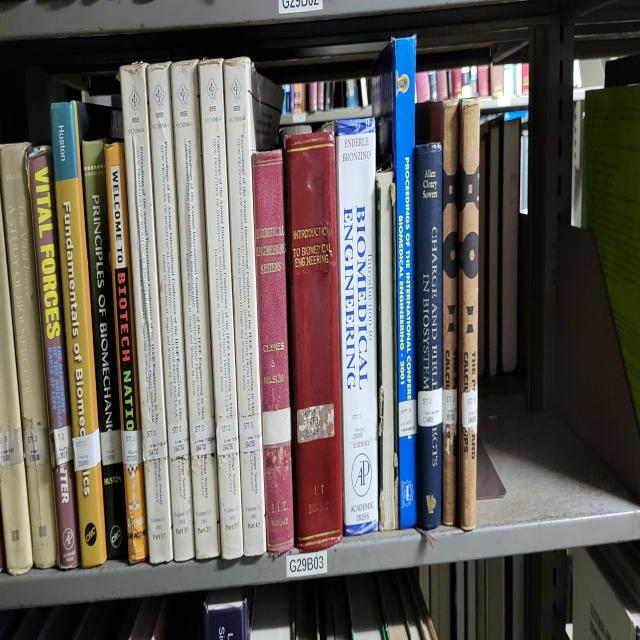Book: (224, 57, 282, 555), (120, 62, 174, 565), (51, 103, 106, 568), (0, 143, 58, 568), (171, 60, 220, 560), (284, 133, 342, 552), (148, 62, 195, 560), (199, 60, 244, 560), (28, 146, 80, 568), (81, 141, 128, 557), (415, 97, 460, 525), (104, 143, 149, 563), (335, 119, 379, 536), (252, 149, 294, 555), (0, 198, 32, 574), (394, 38, 418, 528), (415, 143, 442, 530), (459, 100, 480, 530)
Label: (296, 403, 335, 444), (22, 417, 50, 465), (72, 427, 101, 471), (346, 406, 378, 444), (262, 406, 291, 446), (190, 417, 215, 457), (142, 422, 168, 460), (418, 387, 442, 427), (0, 427, 24, 465), (239, 414, 262, 452), (216, 417, 239, 455), (168, 419, 189, 457), (121, 430, 142, 468), (100, 430, 122, 465), (461, 387, 478, 430), (54, 425, 72, 465), (399, 400, 416, 438), (442, 390, 458, 427)
